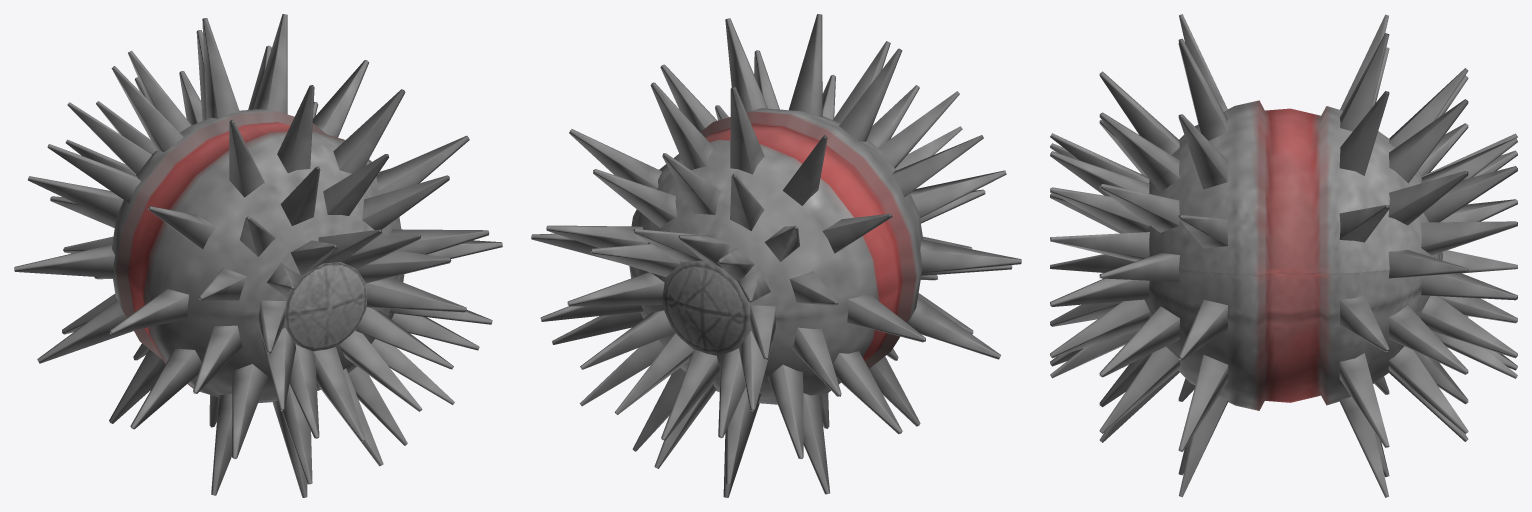
The model's file is PowerUp_StickyFuz.fbx.
3 views of the same model, side by side, from view 1: azimuth 30°, elevation 25°; view 2: azimuth 150°, elevation 25°; view 3: azimuth 270°, elevation 25° (orthographic). The views are drawn at different scales.
Visible parts, largest first — view 1: polySurface3; view 2: polySurface3; view 3: polySurface3.
Part boxes in pixels (x1,y1,x2,y2): polySurface3: (14,14,502,497); polySurface3: (531,14,1021,497); polySurface3: (1050,14,1517,497).
Size of the model in its own units: 0.61 by 0.61 by 0.5892.
